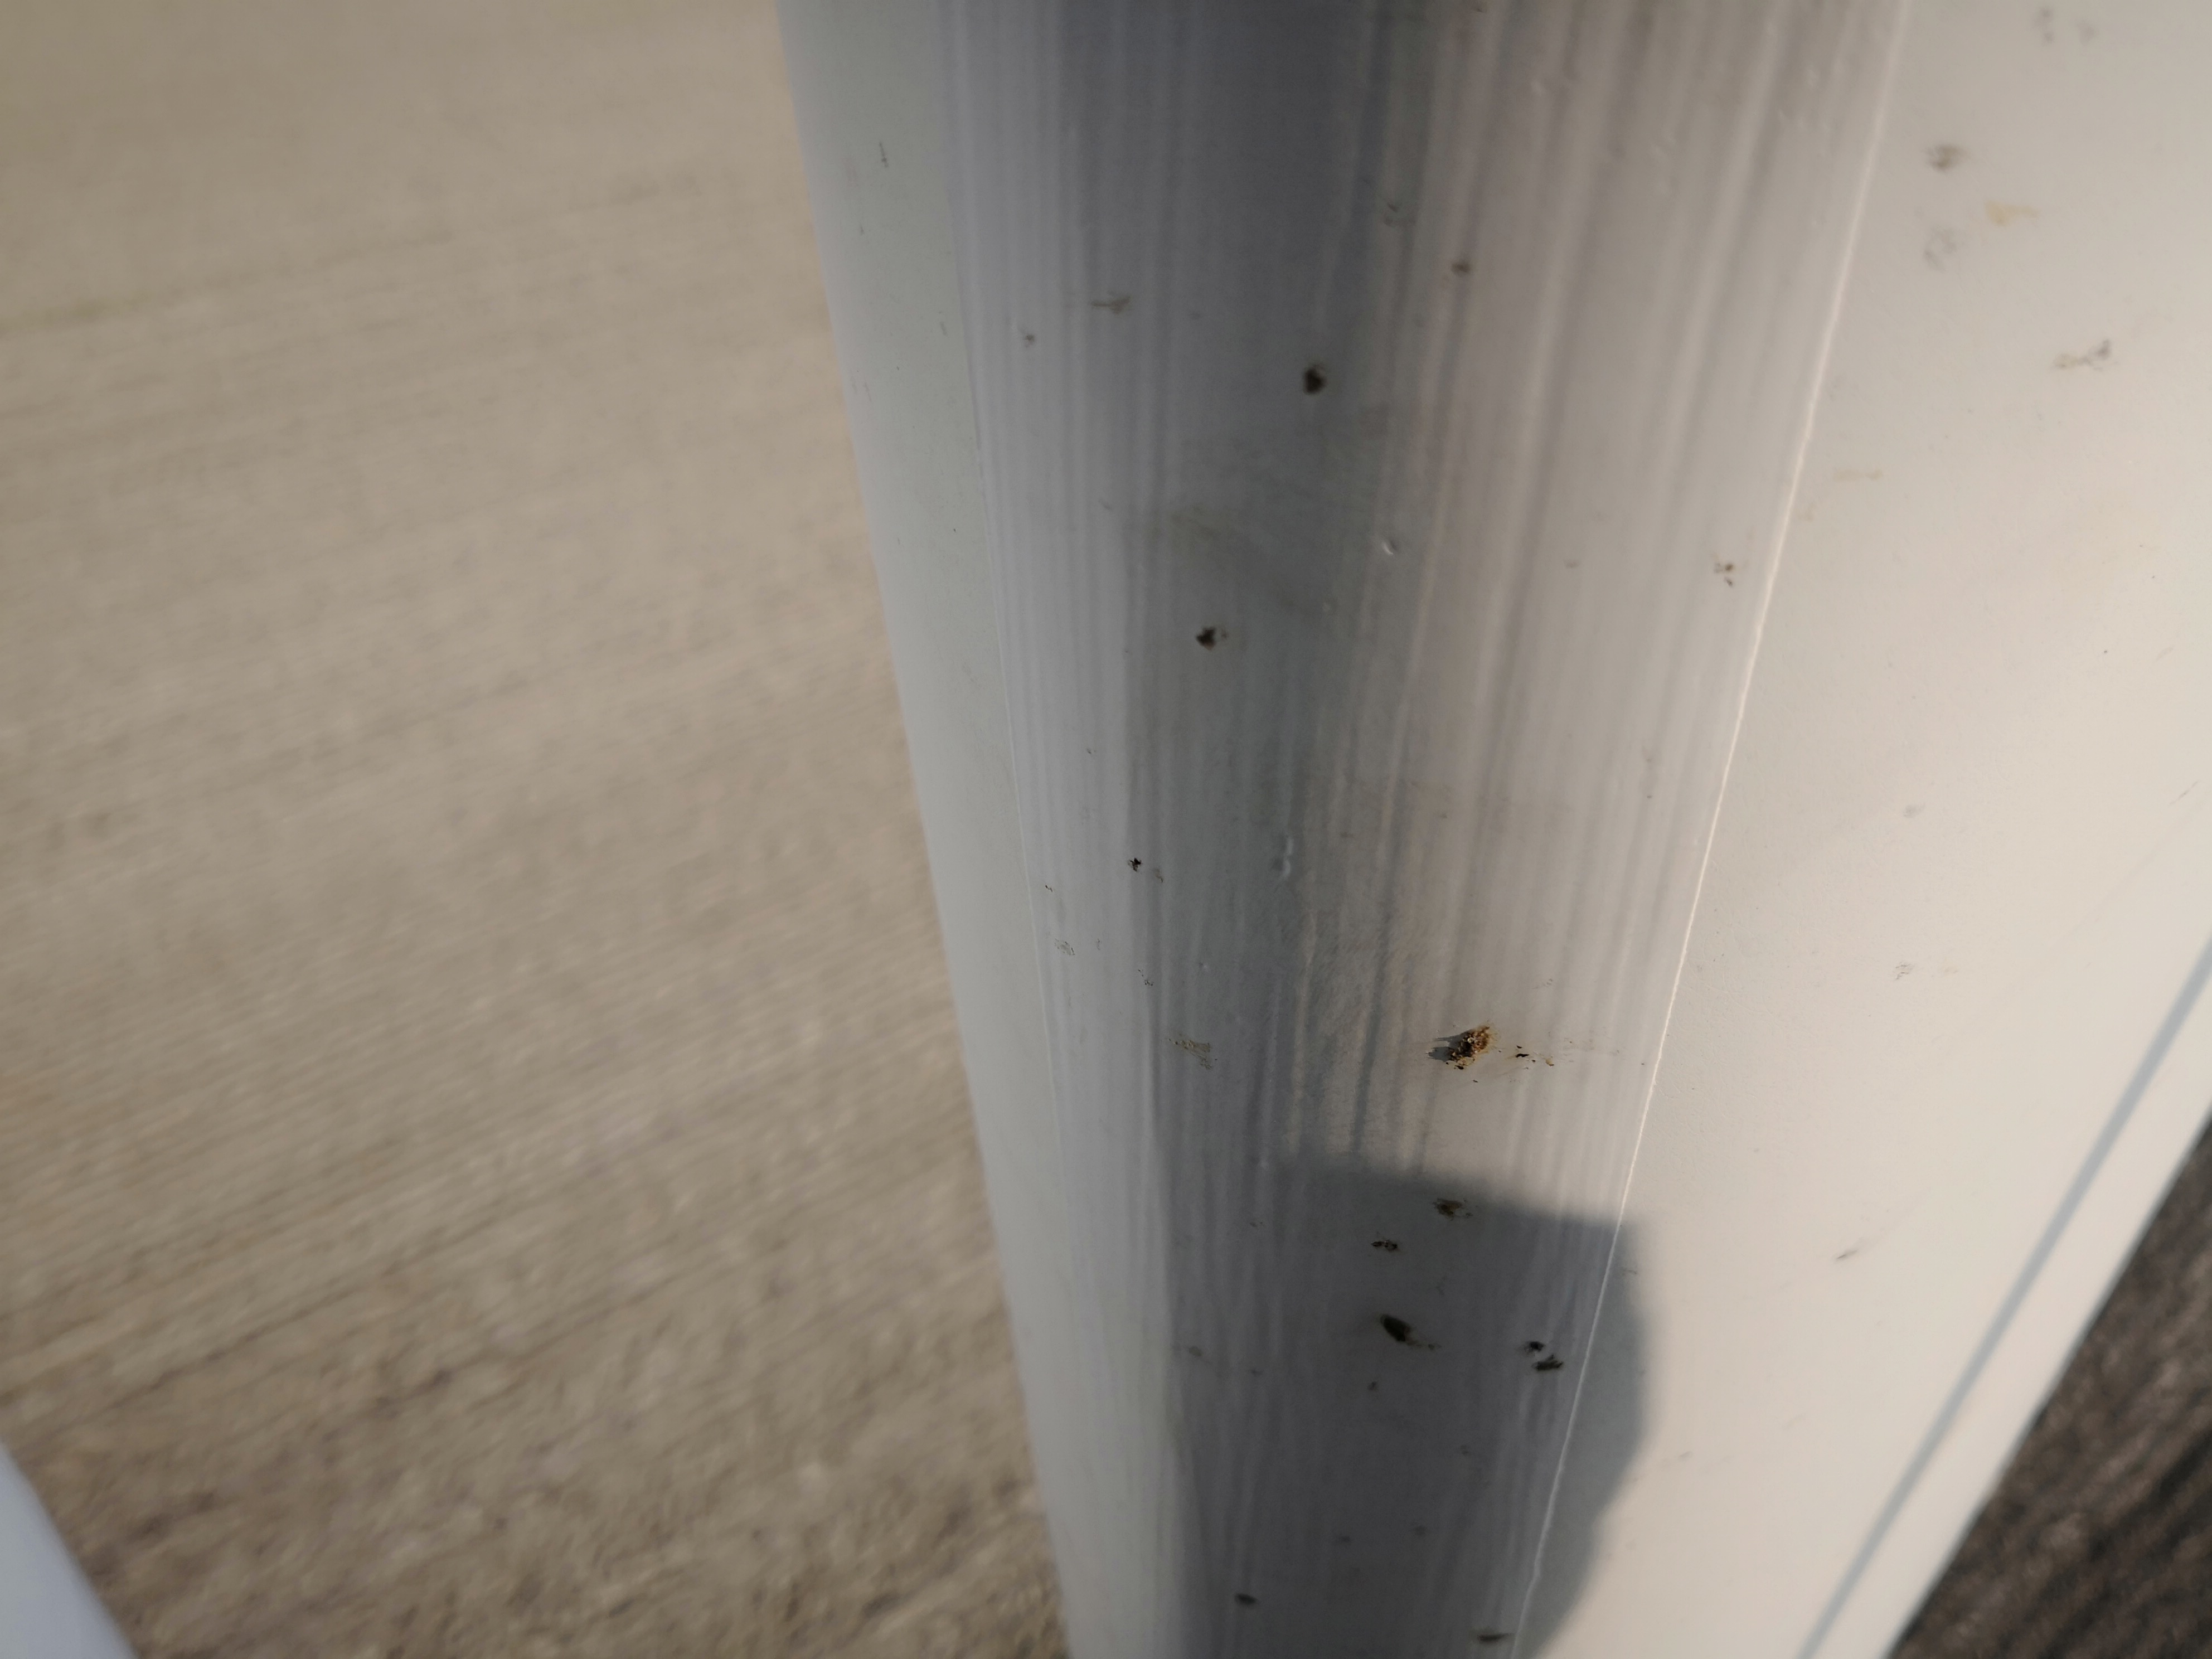Dirt: (1374, 1190, 1474, 1378), (1421, 1007, 1536, 1124), (1510, 1344, 1578, 1398)
